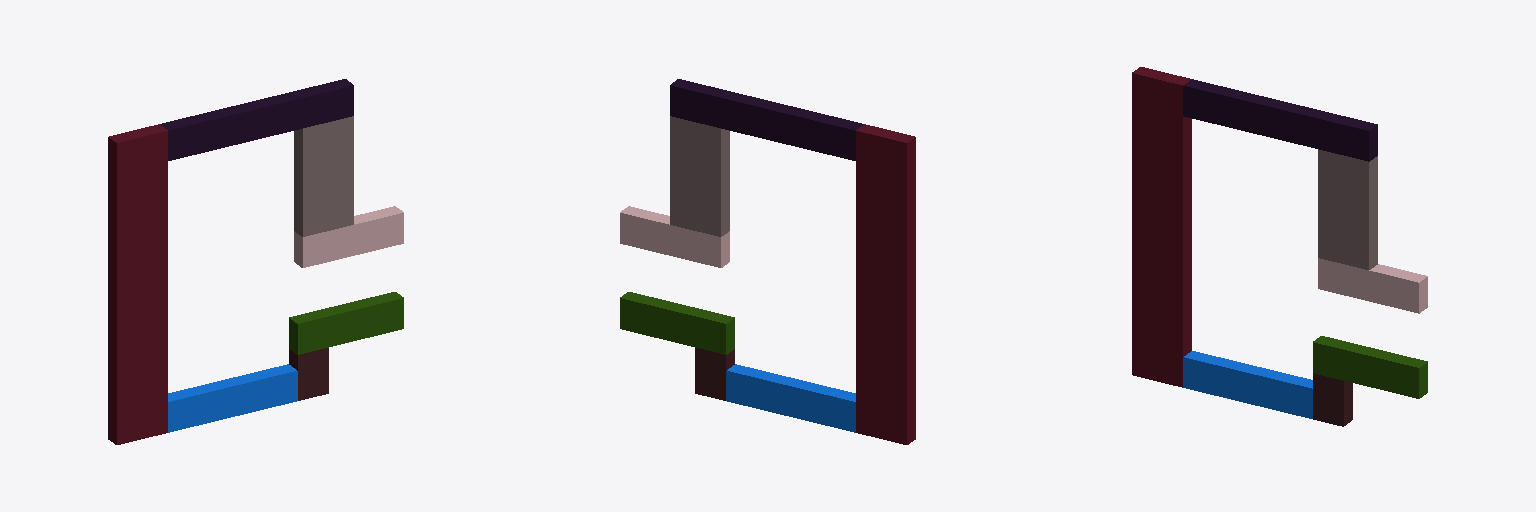
File: tinker.obj
The picture shows the model from 3 angles: view 1: azimuth 30°, elevation 25°; view 2: azimuth 150°, elevation 25°; view 3: azimuth 330°, elevation 25°; orthographic projection.
Visible parts, largest first — view 1: obj_0; view 2: obj_0; view 3: obj_0.
Part boxes in pixels (bbox=[...]): obj_0: bbox=[108, 79, 403, 444]; obj_0: bbox=[620, 79, 915, 444]; obj_0: bbox=[1132, 67, 1427, 426].
Bounding box in the file's own units: 994 × 998 × 53.45.